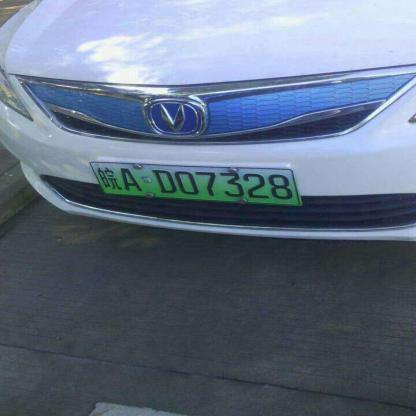lp: (89, 158, 299, 208)
